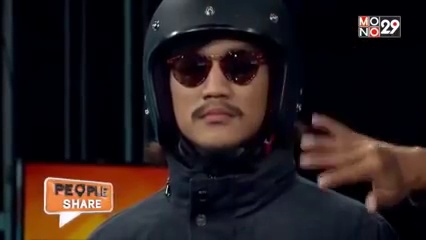helmet: (134, 0, 302, 149)
